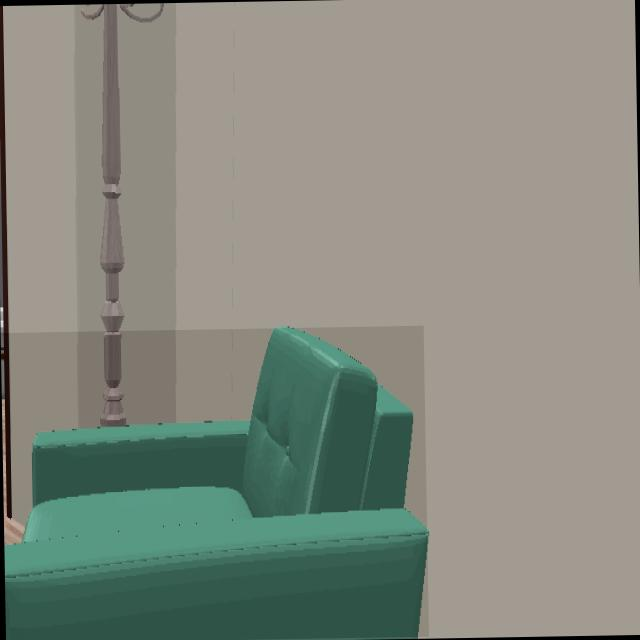sofa: (4, 328, 427, 640)
